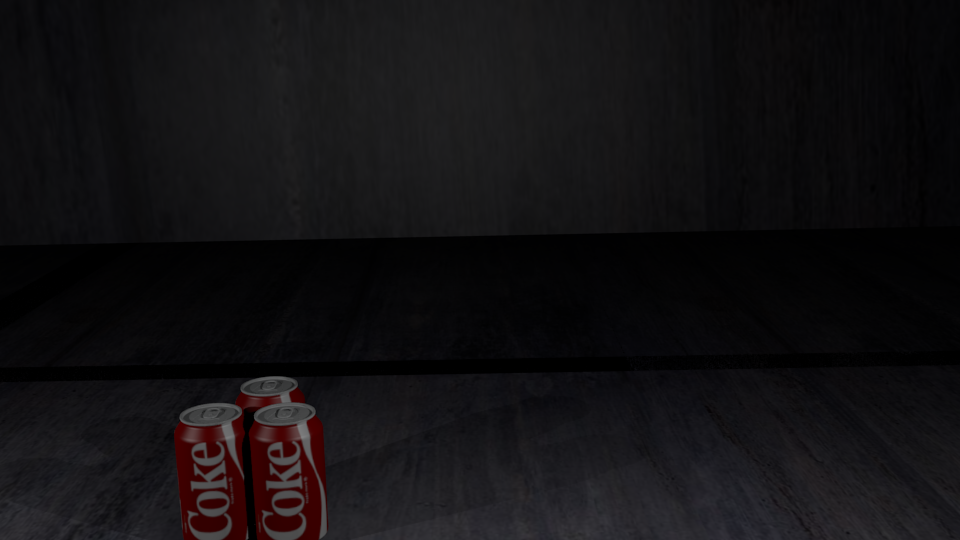cola_can: (174, 403, 252, 539), (249, 403, 325, 539), (236, 377, 303, 508)
